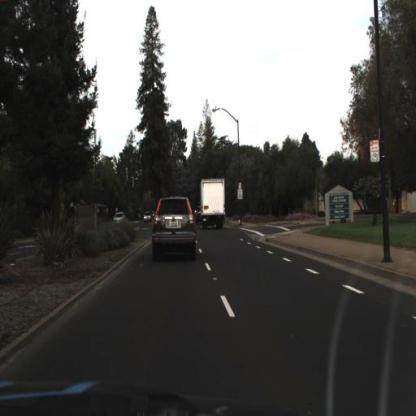car: (149, 195, 202, 273), (197, 172, 233, 235), (111, 211, 128, 227)
truck: (199, 174, 229, 234)
